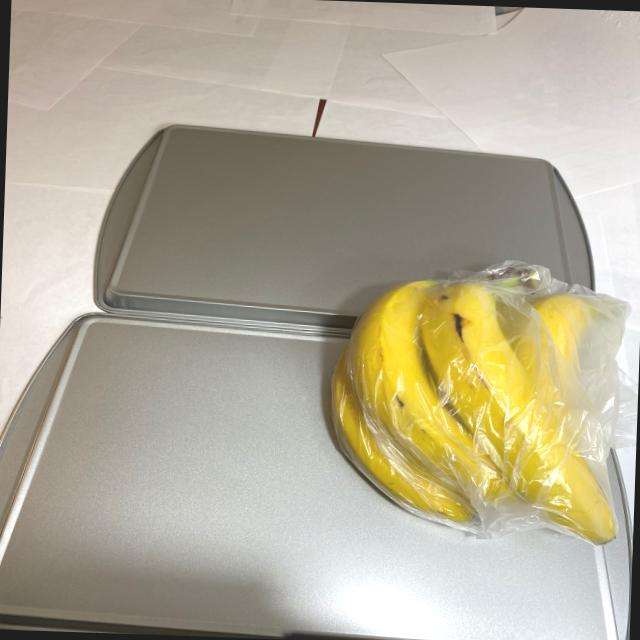banana: (314, 248, 628, 548)
